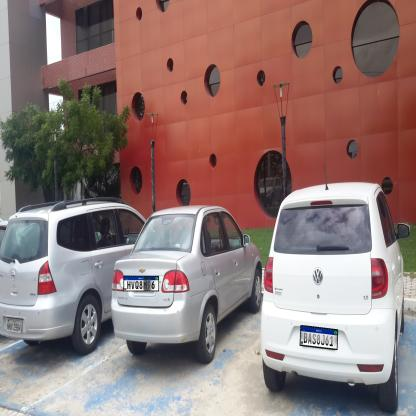PlacaM: (300, 325, 338, 350), (124, 276, 159, 291)
